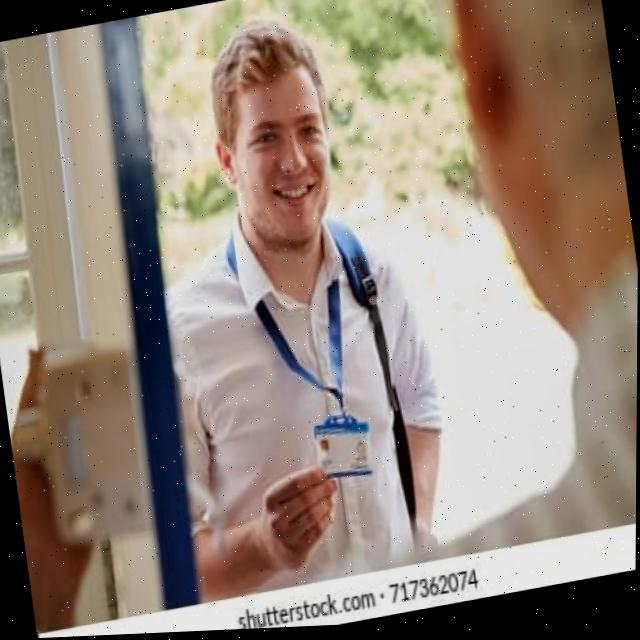id_card: (215, 216, 391, 505)
